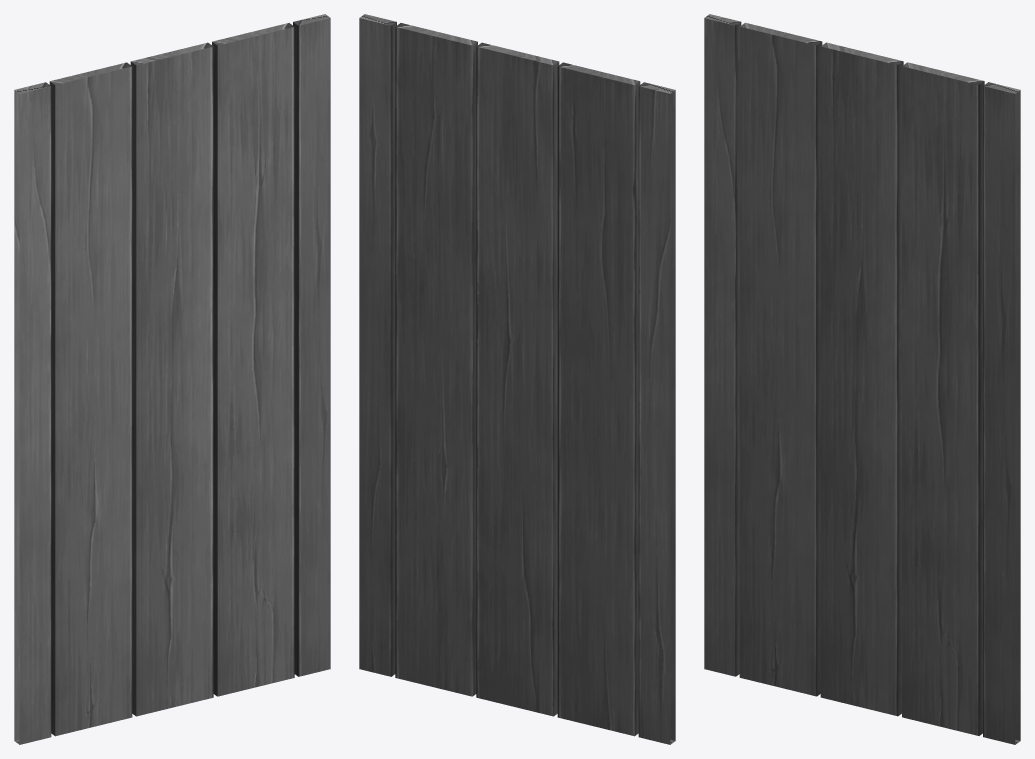
File: WallPlankLong01.fbx
3 views of the same model, side by side, from view 1: azimuth 30°, elevation 25°; view 2: azimuth 150°, elevation 25°; view 3: azimuth 330°, elevation 25° (orthographic).
Visible parts, largest first — view 1: WallPlankLong01_LOD0; view 2: WallPlankLong01_LOD0; view 3: WallPlankLong01_LOD0.
Part boxes in pixels (left/top/right/bottom): WallPlankLong01_LOD0: left=14, top=14, right=330, bottom=744; WallPlankLong01_LOD0: left=359, top=14, right=675, bottom=744; WallPlankLong01_LOD0: left=704, top=14, right=1020, bottom=744.
Size of what is drawn, in the model's own units: 1 by 2 by 0.0306.
